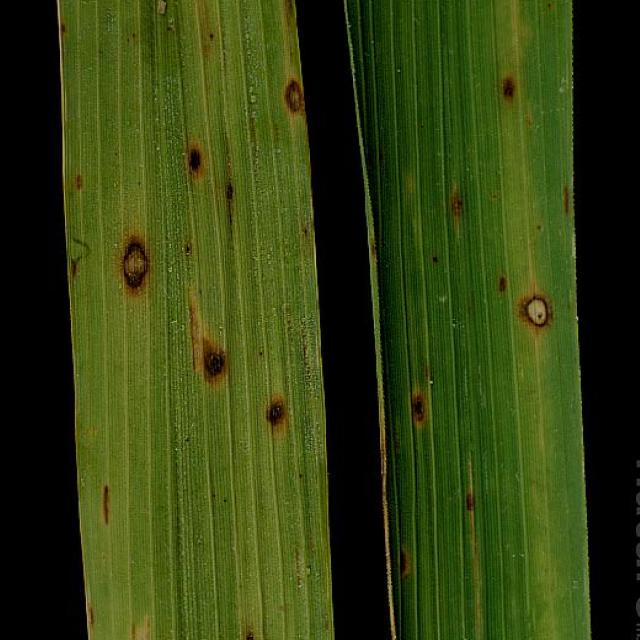Brown_Spot: (180, 290, 248, 406), (108, 222, 160, 322), (401, 375, 453, 446), (241, 384, 294, 449), (176, 122, 220, 192), (279, 62, 319, 129), (519, 290, 565, 342), (486, 64, 536, 109), (443, 178, 471, 250), (88, 478, 118, 540), (221, 611, 274, 640), (69, 160, 89, 212), (456, 482, 484, 516), (559, 176, 575, 226), (399, 540, 415, 588), (153, 0, 178, 26), (498, 269, 516, 301)
